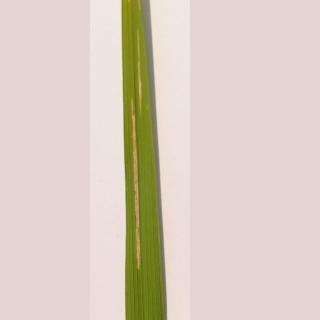Hawar-Daun: (122, 103, 150, 272), (130, 33, 148, 117)
